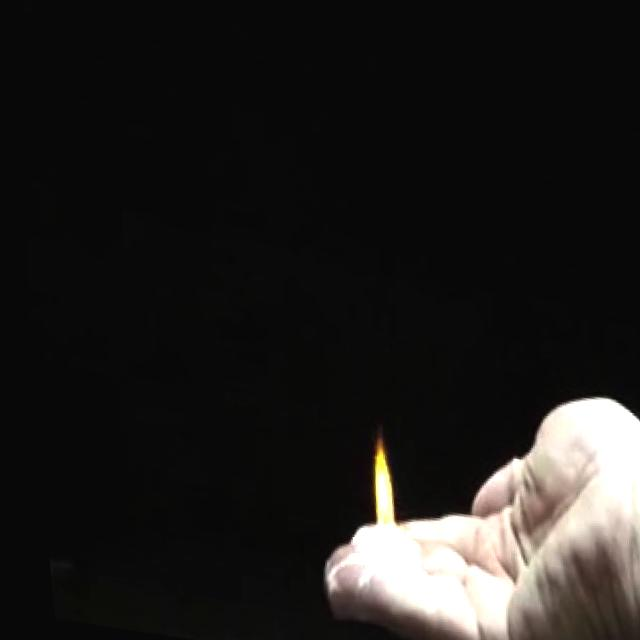Fire: (349, 413, 394, 546)
